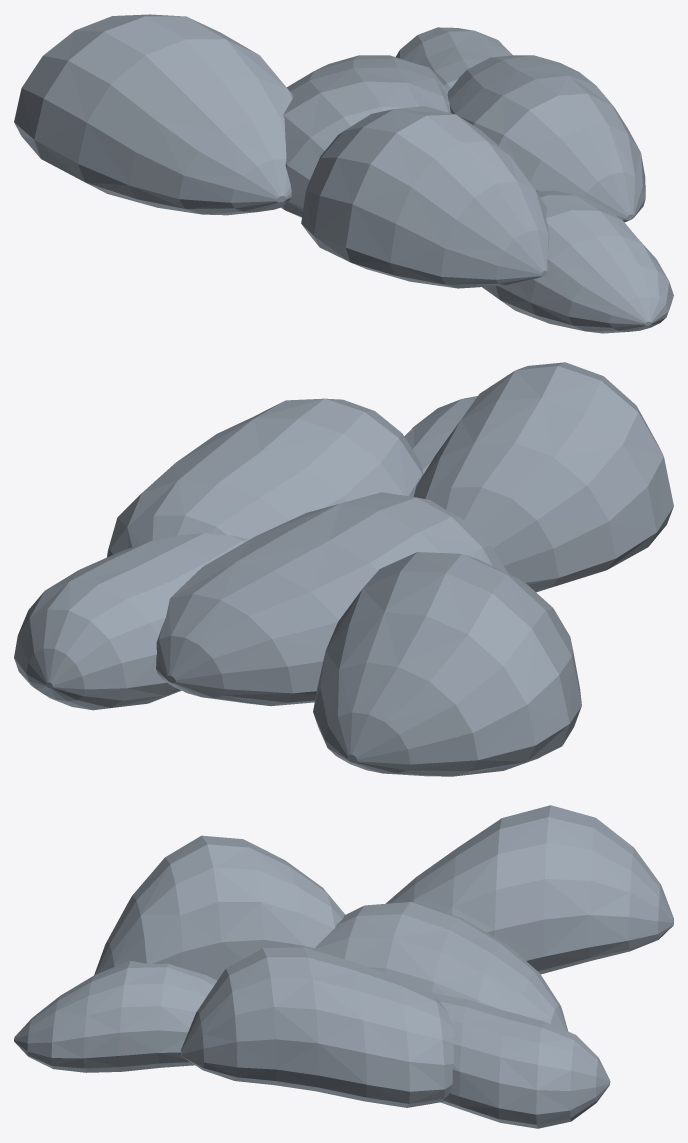
The model's file is storm_rear_anvil.glb.
3 views of the same model, one above another, from view 1: azimuth 30°, elevation 25°; view 2: azimuth 150°, elevation 25°; view 3: azimuth 270°, elevation 25° (orthographic). The views are drawn at different scales.
Visible parts, largest first — view 1: Storm rear layered anvil 05, Storm rear layered anvil 03, Storm rear layered anvil 01, Storm rear layered anvil 04, Storm rear layered anvil 02, Storm rear layered anvil 00; view 2: Storm rear layered anvil 05, Storm rear layered anvil 03, Storm rear layered anvil 02, Storm rear layered anvil 01, Storm rear layered anvil 00, Storm rear layered anvil 04; view 3: Storm rear layered anvil 01, Storm rear layered anvil 05, Storm rear layered anvil 03, Storm rear layered anvil 04, Storm rear layered anvil 00, Storm rear layered anvil 02.
Boxes of the visible parts, x1,y1,x2,y2 form: Storm rear layered anvil 05: [14, 14, 292, 215]; Storm rear layered anvil 03: [301, 106, 549, 288]; Storm rear layered anvil 01: [447, 55, 645, 222]; Storm rear layered anvil 04: [482, 190, 673, 333]; Storm rear layered anvil 02: [281, 55, 450, 217]; Storm rear layered anvil 00: [396, 27, 512, 90]; Storm rear layered anvil 05: [313, 552, 581, 776]; Storm rear layered anvil 03: [413, 362, 673, 592]; Storm rear layered anvil 02: [156, 492, 509, 706]; Storm rear layered anvil 01: [107, 398, 423, 557]; Storm rear layered anvil 00: [14, 532, 248, 710]; Storm rear layered anvil 04: [404, 396, 477, 474]; Storm rear layered anvil 01: [181, 947, 453, 1107]; Storm rear layered anvil 05: [386, 805, 673, 974]; Storm rear layered anvil 03: [94, 835, 345, 980]; Storm rear layered anvil 04: [14, 961, 216, 1072]; Storm rear layered anvil 00: [429, 992, 610, 1128]; Storm rear layered anvil 02: [312, 902, 568, 1031].
Size of the model in its own units: 2377 by 953 by 3152.
